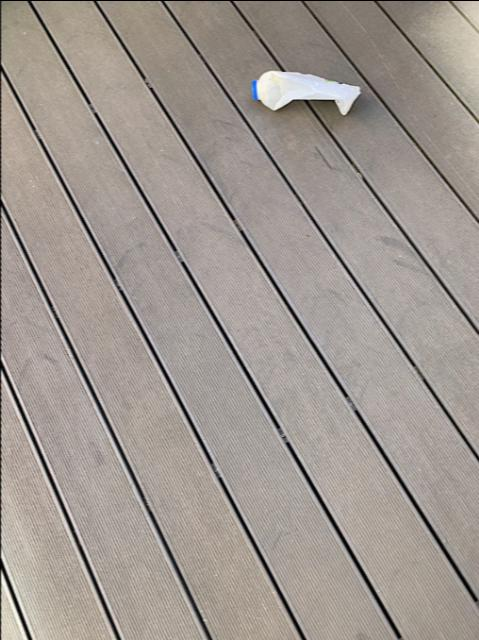plastic: (252, 69, 360, 112)
